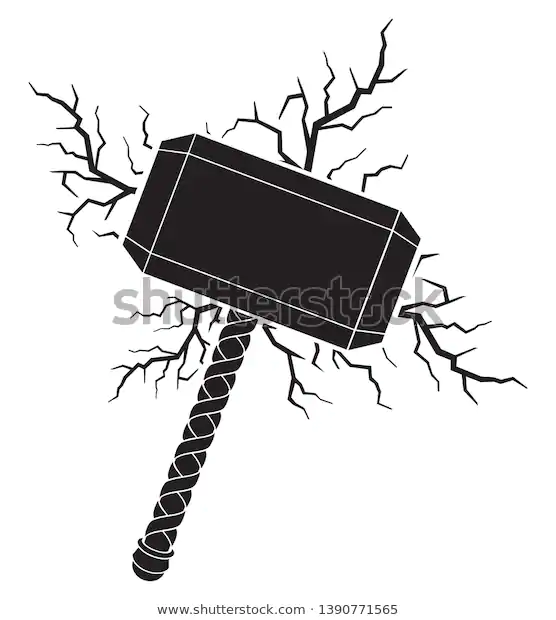THOR Hammer: (132, 113, 430, 574)
